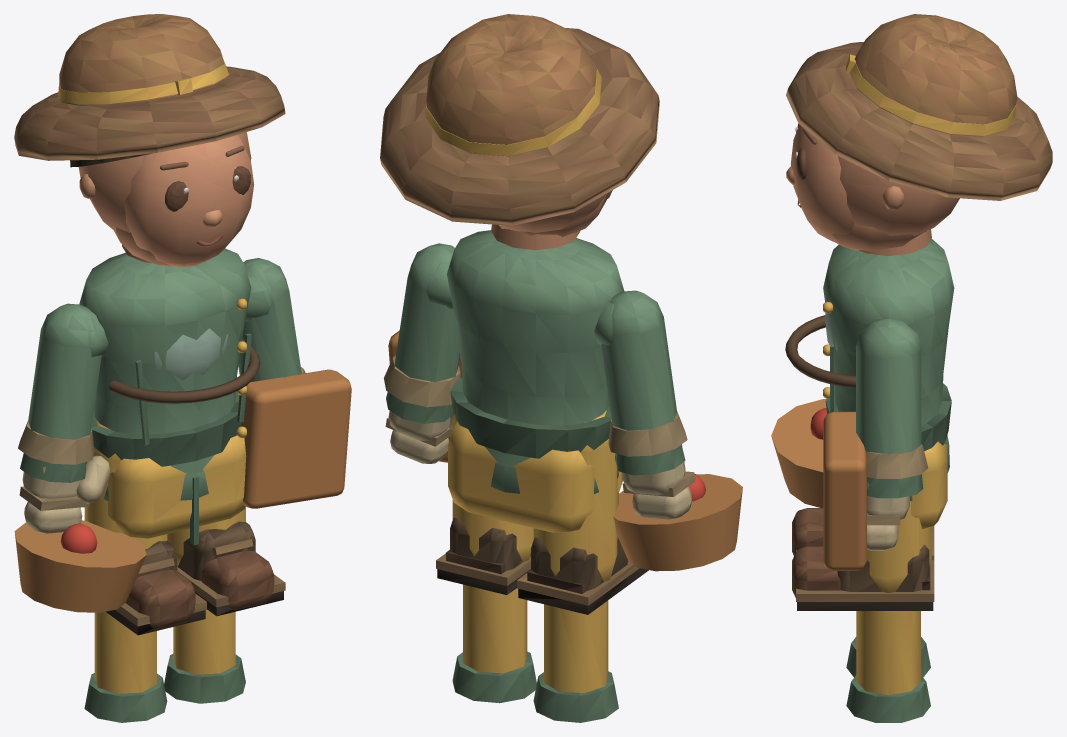
File: kang-taeho.m1.glb
3 views of the same model, side by side, from view 1: azimuth 30°, elevation 25°; view 2: azimuth 150°, elevation 25°; view 3: azimuth 270°, elevation 25° (orthographic). The views are drawn at different scales.
Visible parts, largest first — view 1: coat, hat, legs, figureDetail, fieldSatchel, armLeftMesh, trousers, harvestBasket, handLeftMesh, armRightMesh, fieldSatchelStrap, tomatoSample; view 2: hat, coat, legs, armLeftMesh, trousers, harvestBasket, armRightMesh, handLeftMesh, handRightMesh, figureDetail, neck; view 3: hat, legs, coat, figureDetail, armRightMesh, fieldSatchel, harvestBasket, handRightMesh, trousers, fieldSatchelStrap, neck.
Part boxes in pixels (x1,y1,x2,y2): coat: (79, 248, 251, 500); hat: (14, 14, 285, 160); legs: (84, 419, 285, 722); figureDetail: (70, 87, 254, 267); fieldSatchel: (238, 369, 351, 508); armLeftMesh: (20, 303, 108, 482); trousers: (108, 435, 246, 545); harvestBasket: (14, 520, 146, 612); handLeftMesh: (18, 421, 110, 533); armRightMesh: (238, 258, 301, 381); fieldSatchelStrap: (108, 339, 260, 403); tomatoSample: (60, 523, 97, 553); hat: (380, 14, 659, 225); coat: (447, 230, 624, 493); legs: (436, 393, 648, 722); armLeftMesh: (594, 290, 685, 475); trousers: (448, 421, 622, 532); harvestBasket: (613, 474, 742, 571); armRightMesh: (386, 243, 460, 423); handLeftMesh: (608, 411, 695, 519); handRightMesh: (384, 355, 460, 463); figureDetail: (498, 190, 612, 236); neck: (491, 224, 580, 250); hat: (786, 14, 1052, 200); legs: (792, 501, 934, 722); coat: (823, 238, 954, 500); figureDetail: (786, 123, 959, 251); armRightMesh: (855, 318, 923, 498); fieldSatchel: (823, 411, 866, 570); harvestBasket: (771, 399, 826, 507); handRightMesh: (866, 444, 928, 550); trousers: (911, 434, 947, 528); fieldSatchelStrap: (785, 315, 855, 388); neck: (859, 229, 931, 255).
Size of the model in its own units: 1.11 by 2.21 by 0.8386.
